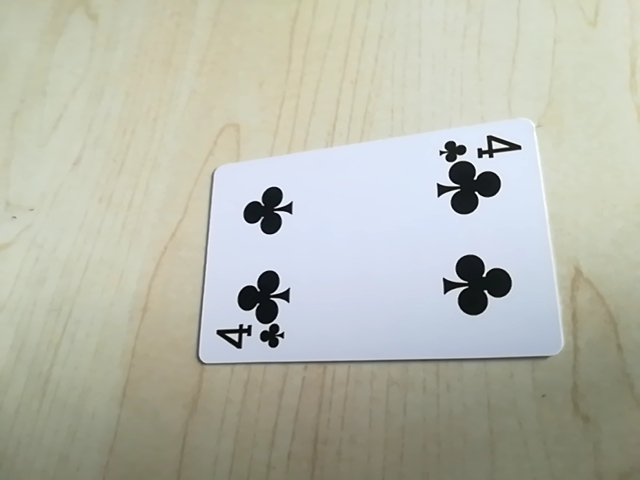mh 4: (437, 128, 525, 162), (210, 322, 289, 357)
